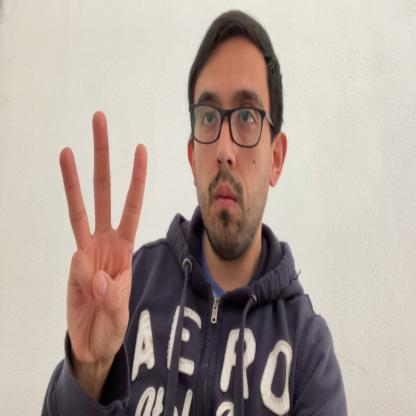W: (59, 108, 148, 377)
